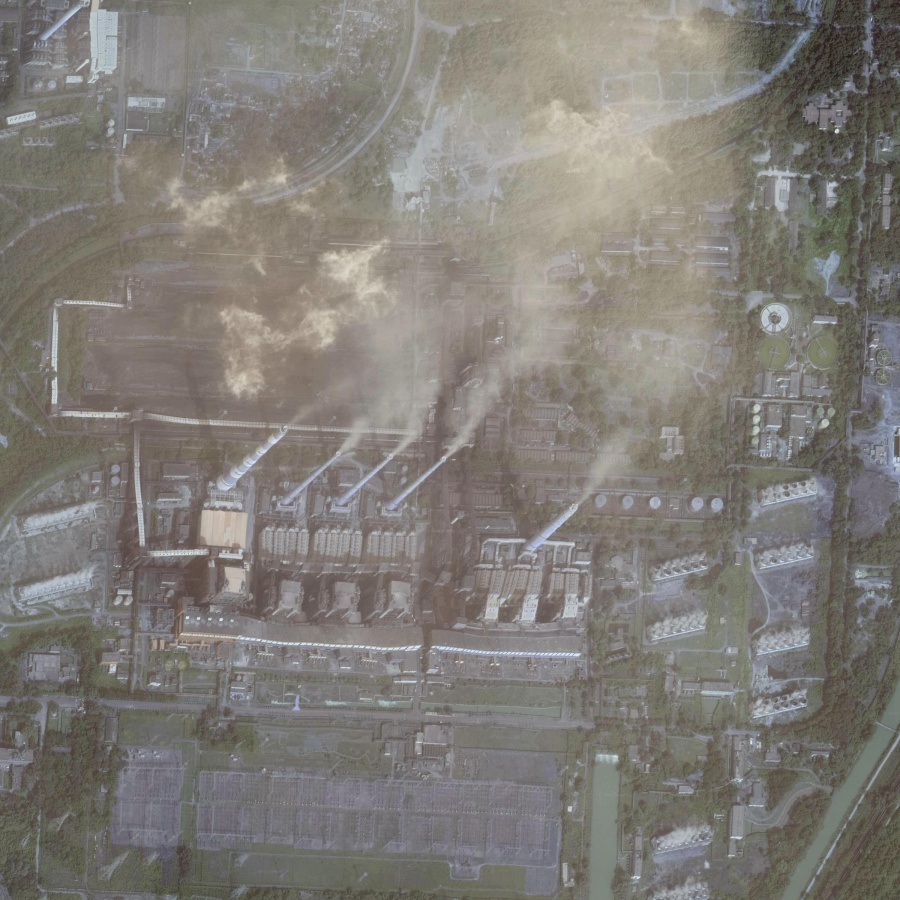PowerPlant: (56, 192, 617, 668)
